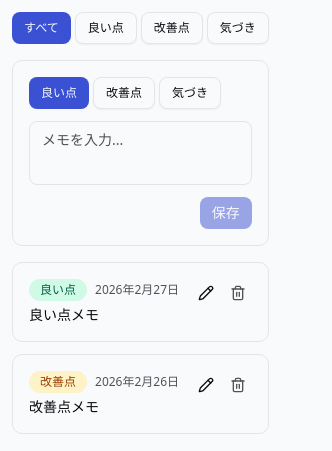
Test: MemberNoteTab › カテゴリフィルタで絞り込める
The image size is (332, 451).
Note: フィルタは先頭のものを使う
Click the 1st button "良い点" at (106, 28), box [75,12,137,44]
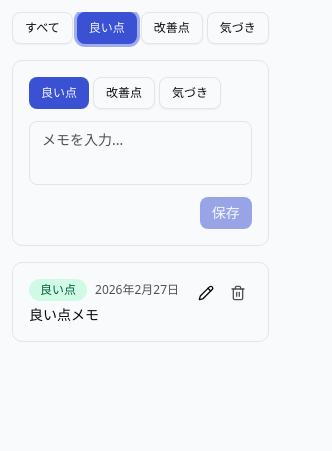
Expected: the text "良い点メモ" is shown, [29,305,99,324]
Now the text "改善点メモ" is gone
